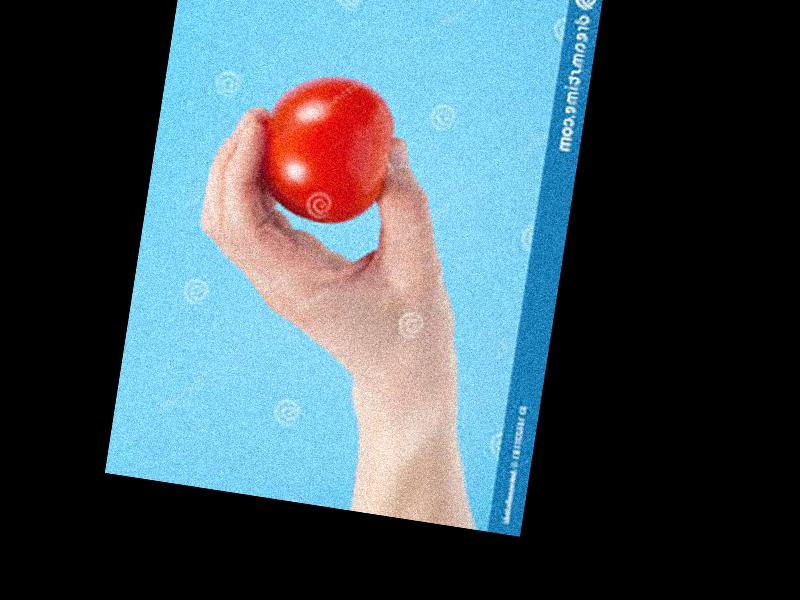Tomato: (250, 67, 400, 229)
